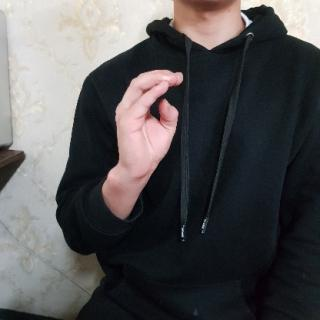JEEM: (110, 58, 198, 198)
